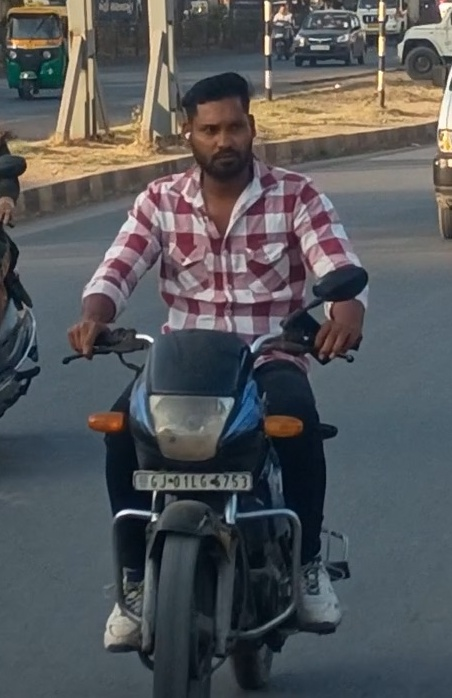BikeWithRider: (55, 64, 378, 698), (265, 0, 300, 63)
NoHelmet: (169, 64, 267, 183)
